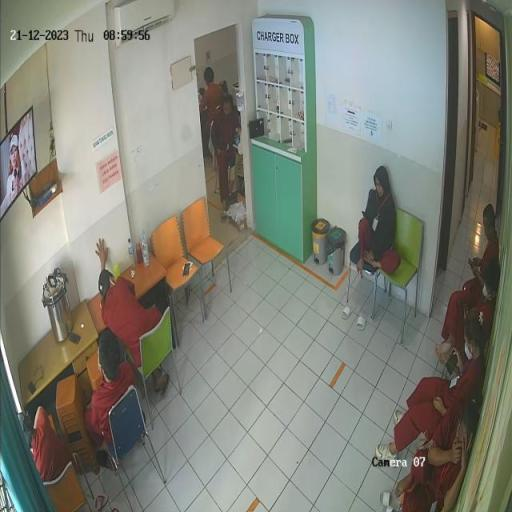person: (375, 309, 487, 465), (397, 388, 484, 512), (97, 240, 164, 371), (439, 259, 501, 374), (87, 329, 138, 451), (19, 407, 86, 496), (349, 165, 400, 274), (449, 204, 500, 306), (214, 93, 243, 217), (200, 67, 225, 162)
